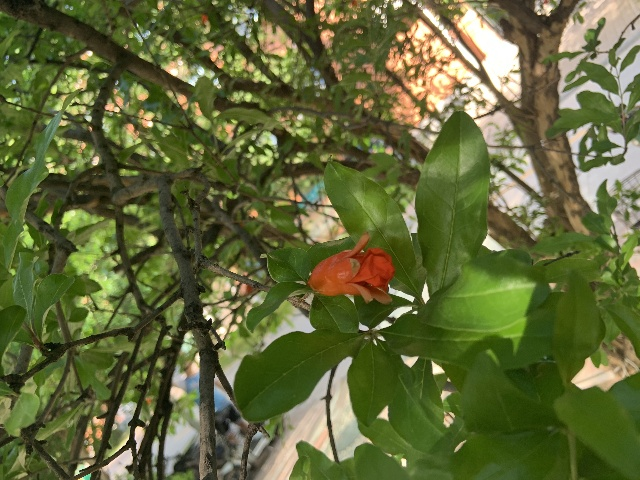flower: (308, 232, 396, 306)
